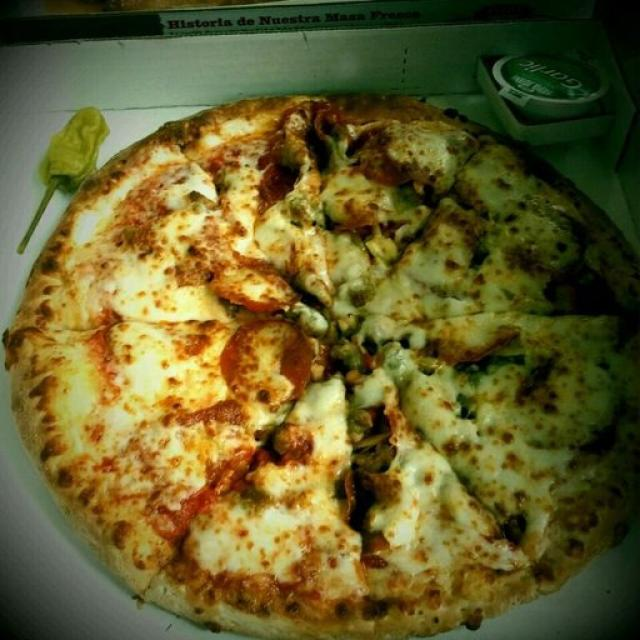Cheese: (103, 243, 192, 470), (203, 486, 473, 551), (438, 390, 585, 485), (424, 243, 559, 328), (441, 148, 533, 242), (528, 320, 608, 390)
Mushrooms: (344, 404, 401, 480), (451, 352, 513, 382), (490, 509, 530, 543)
Pizza: (5, 95, 640, 640)
Tomato: (214, 318, 318, 402), (214, 255, 299, 318)
